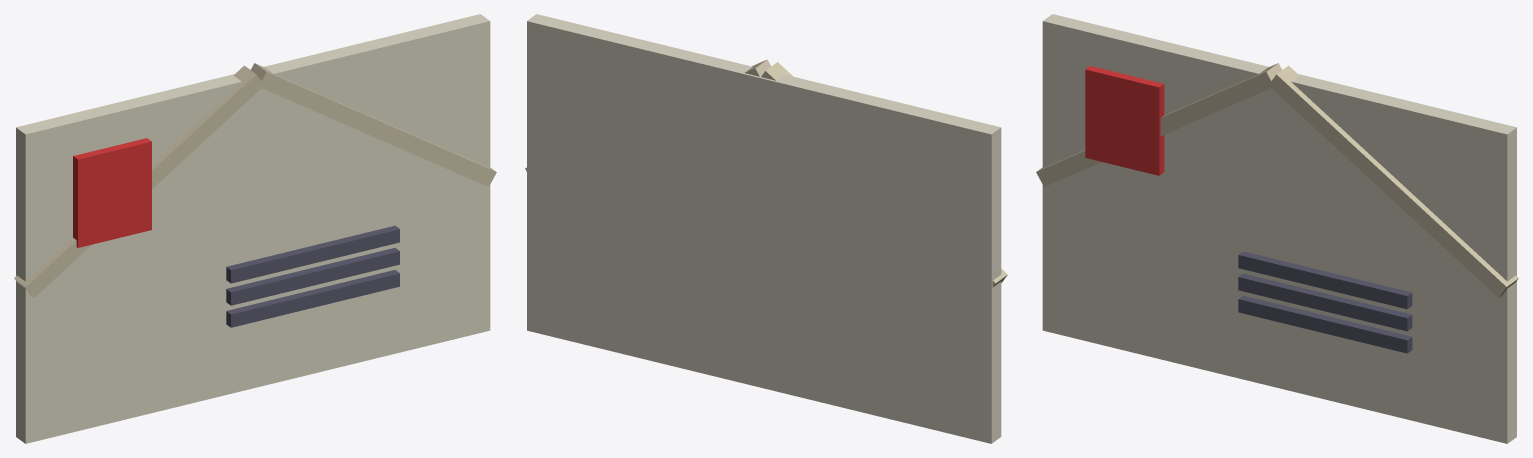
The model's file is Envelope.fbx.
3 renders of one model, left to right at view 1: azimuth 30°, elevation 25°; view 2: azimuth 150°, elevation 25°; view 3: azimuth 330°, elevation 25°, orthographic.
Parts seen in each view (by area): view 1: Paper, Address, Flap, Stamp; view 2: Paper, Flap; view 3: Paper, Address, Flap, Stamp.
Boxes of the visible parts, x1,y1,x2,y2 form: Paper: (16,14,490,443); Address: (226,225,399,327); Flap: (14,63,496,297); Stamp: (73,138,151,247); Paper: (527,14,1001,443); Flap: (525,59,1007,287); Paper: (1042,14,1516,443); Address: (1238,251,1412,353); Flap: (1036,63,1518,297); Stamp: (1085,66,1164,175).
Size of the model in its own units: 2.23 by 1.43 by 0.12.
